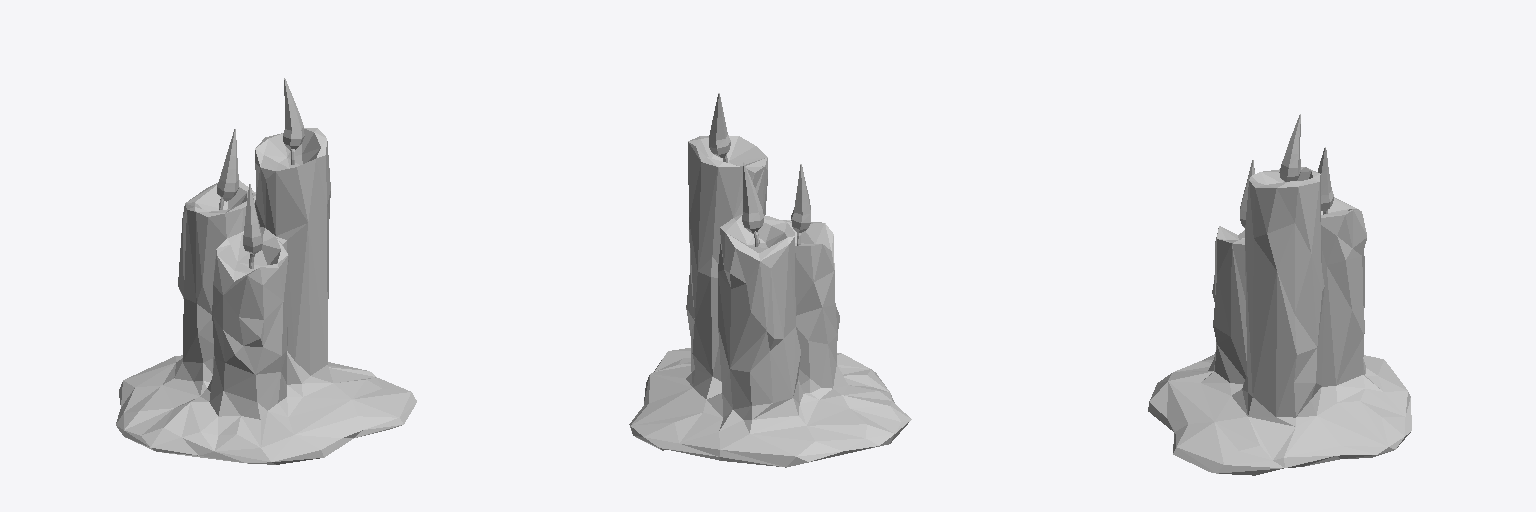
File: candle9.obj
3 views of the same model, side by side, from view 1: azimuth 30°, elevation 25°; view 2: azimuth 150°, elevation 25°; view 3: azimuth 270°, elevation 25° (orthographic).
Visible parts, largest first — view 1: Object003, candleflame003, candleflame002, candleflame001; view 2: Object003, candleflame002, candleflame003, candleflame001; view 3: Object003, candleflame003, candleflame002.
Boxes of the visible parts, x1=… form: Object003: x1=116, y1=128, x2=416, y2=464; candleflame003: x1=283, y1=78, x2=304, y2=149; candleflame002: x1=217, y1=129, x2=238, y2=201; candleflame001: x1=243, y1=184, x2=262, y2=254; Object003: x1=629, y1=136, x2=911, y2=467; candleflame002: x1=742, y1=162, x2=763, y2=233; candleflame003: x1=709, y1=93, x2=730, y2=157; candleflame001: x1=791, y1=164, x2=810, y2=232; Object003: x1=1148, y1=167, x2=1411, y2=475; candleflame003: x1=1279, y1=114, x2=1301, y2=181; candleflame002: x1=1318, y1=147, x2=1333, y2=211.
Bounding box in the file's own units: 1.05 × 1.24 × 0.9231.